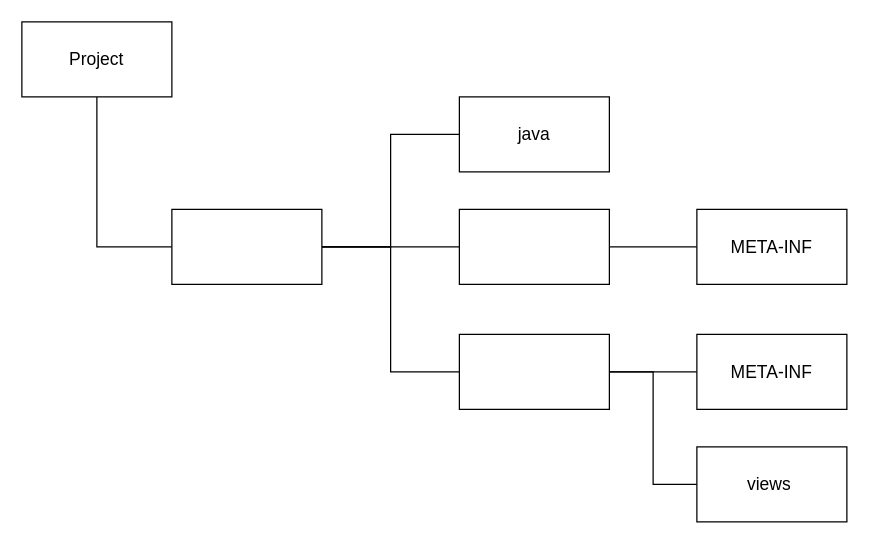
The diagram is 869 pixels wide and 544 high, and some of its shapes have lost their labels. Each missing label, with the centre of its shape:
resources: point (533, 246)
src/main: point (246, 246)
webapp: point (533, 371)
